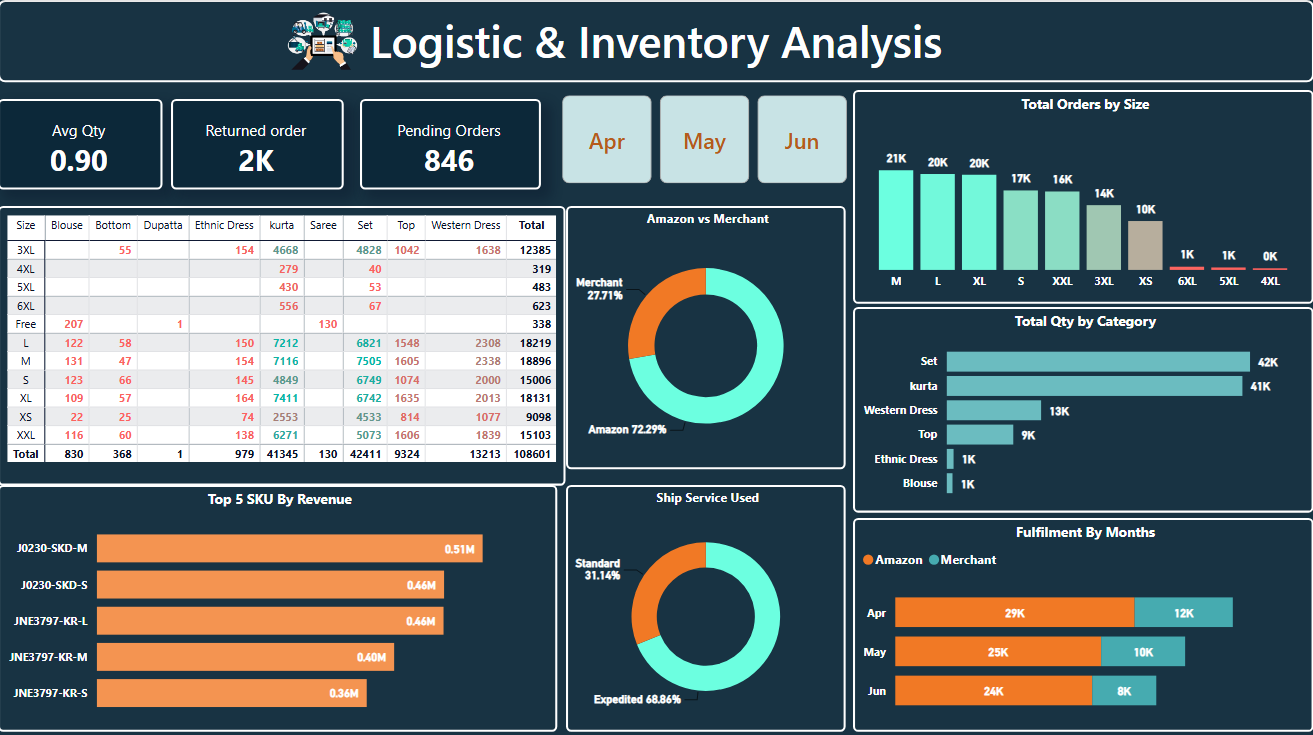

The dashboard page shown, as its layout file describes it:
{"tool":"powerbi","page":{"name":"Logistic & Inventory","canvas":[1280,720],"ordinal":2},"visuals":[{"type":"textbox","box":[0,0,1280,80],"z":0},{"type":"donutChart","title":"Amazon vs Merchant","fields":{"Category":["Sales fact.Fulfilment"],"Y":["Measure.Total Qty"]},"box":[552,200,272,256],"z":1000},{"type":"pieChart","title":"Ship Service Used","fields":{"Y":["Measure.Total Orders"],"Category":["Sales fact.ship-service-level"]},"box":[552,472,272,240],"z":2000},{"type":"barChart","title":"Fulfilment By Months","fields":{"Category":["DateTable.Month Name"],"Series":["Sales fact.Fulfilment"],"Y":["Sum(Sales fact.Qty)"]},"box":[832,504,448,208],"z":3000},{"type":"cardVisual","fields":{"Data":["Measure.Avg Qty"]},"box":[0,96,160,88],"z":4000},{"type":"clusteredBarChart","fields":{"Category":["Product.Category"],"Y":["Measure.Total Qty"]},"box":[832,299,448,200],"z":5000},{"type":"columnChart","fields":{"Y":["Measure.Total Orders"],"Category":["Product.Size"]},"box":[832,88,448,208],"z":6000},{"type":"barChart","title":"Top 5 SKU By Revenue","fields":{"Category":["Product.SKU"],"Y":["Measure.Total Revenue"]},"box":[0,472,544,240],"z":7000},{"type":"advancedSlicerVisual","fields":{"Values":["DateTable.Month Name"]},"box":[544,88,288,96],"z":8000},{"type":"pivotTable","fields":{"Columns":["Product.Category"],"Values":["Measure.Total Qty"],"Rows":["Product.Size"]},"box":[0,200,552,272],"z":9000},{"type":"image","box":[264,0,104,80],"z":10000},{"type":"cardVisual","fields":{"Data":["Measure.Returned oreder"]},"box":[168,96,168,88],"z":11000},{"type":"cardVisual","fields":{"Data":["Measure.Pending Orders"]},"box":[352,96,176,88],"z":12000}]}

Visuals, with their boxes in screenshot pixels (x1, y1, x2, y2), scaled from the page's 1280x720 canvas onto the 1313x735 screenshot:
textbox: bbox(0, 0, 1312, 82)
"Amazon vs Merchant" donutChart: bbox(566, 204, 845, 465)
"Ship Service Used" pieChart: bbox(566, 482, 845, 727)
"Fulfilment By Months" barChart: bbox(853, 514, 1312, 727)
cardVisual - Measure.Avg Qty: bbox(0, 98, 164, 188)
clusteredBarChart - Product.Category x Measure.Total Qty: bbox(853, 305, 1312, 509)
columnChart - Measure.Total Orders x Product.Size: bbox(853, 90, 1312, 302)
"Top 5 SKU By Revenue" barChart: bbox(0, 482, 558, 727)
advancedSlicerVisual - DateTable.Month Name: bbox(558, 90, 853, 188)
pivotTable - Product.Category x Measure.Total Qty: bbox(0, 204, 566, 482)
image: bbox(271, 0, 377, 82)
cardVisual - Measure.Returned oreder: bbox(172, 98, 345, 188)
cardVisual - Measure.Pending Orders: bbox(361, 98, 542, 188)
